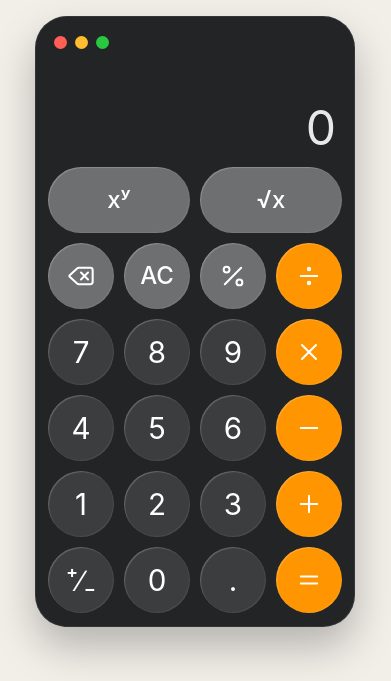
Calculator › works with the keypad buttons
Click the button "6": (233, 428) [200,394,266,460]
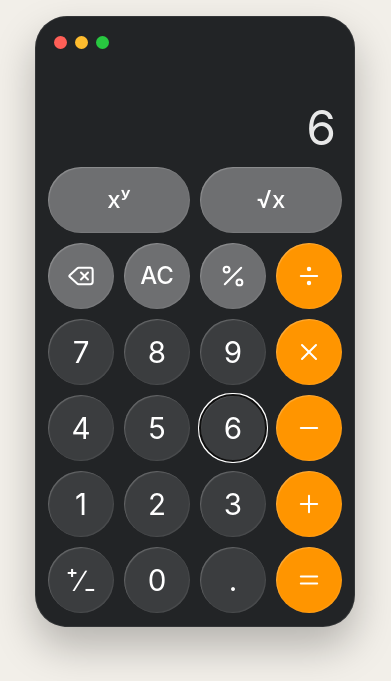
Click the button named "Divide": (309, 276) [276,242,342,308]
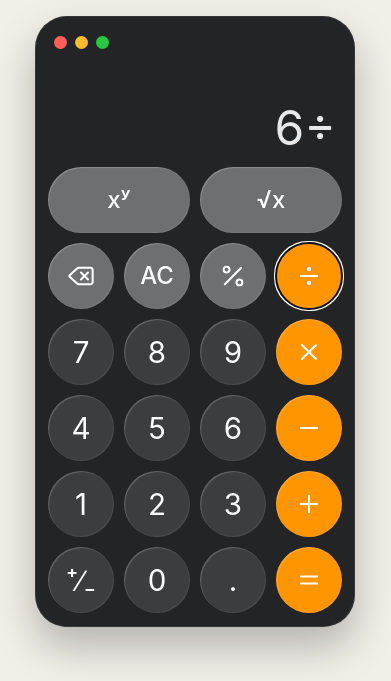
Click the button "3": (233, 504) [200,470,266,536]
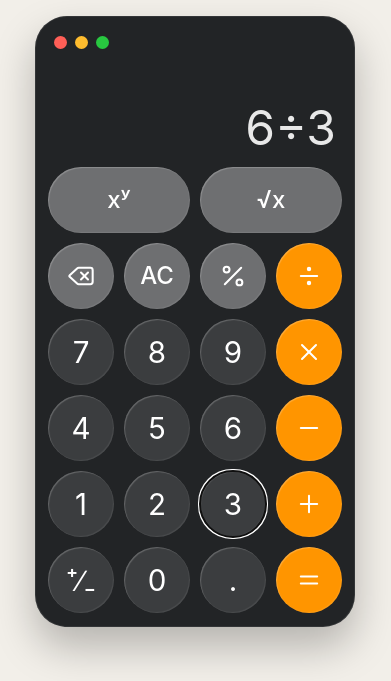
Click the button named "Equals": (309, 580) [276,546,342,612]
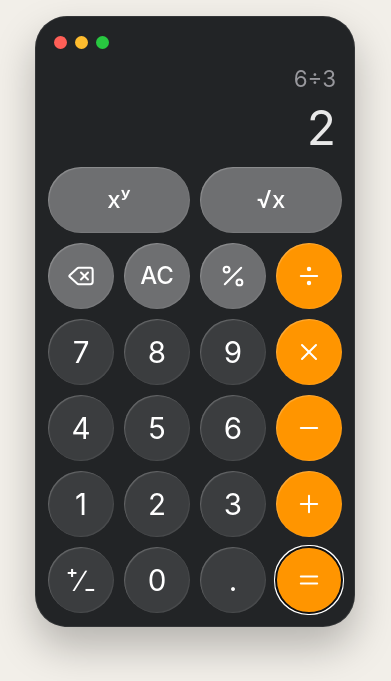
expect the text "2" is shown: met, box [307,98,336,157]
